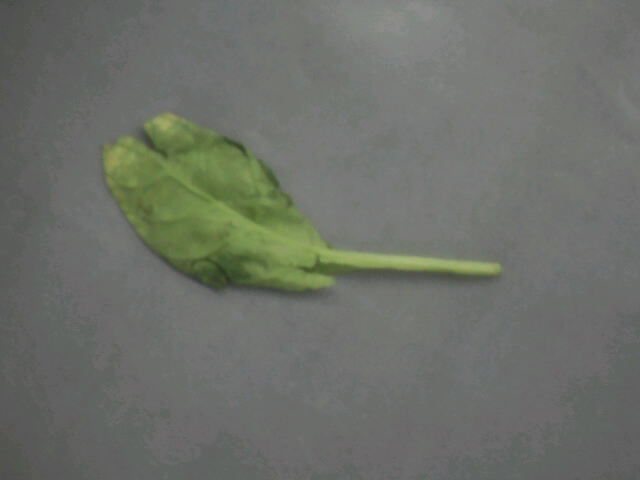yellow: (74, 96, 425, 320)
